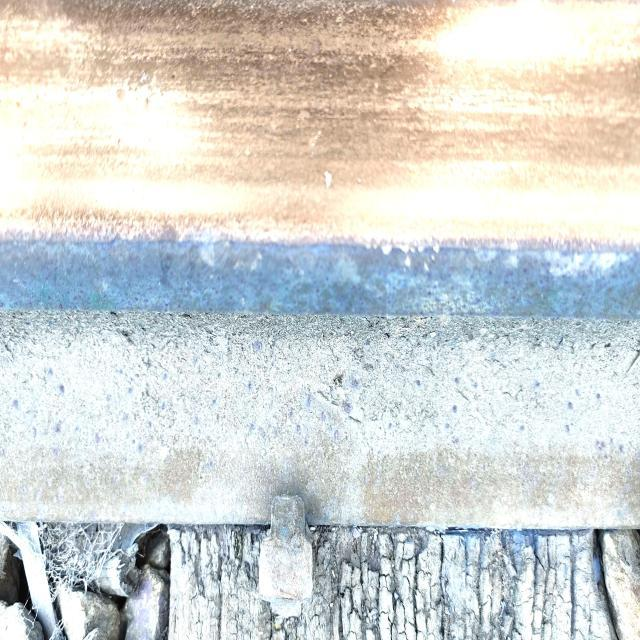Good Fasteners: (258, 496, 313, 617)
